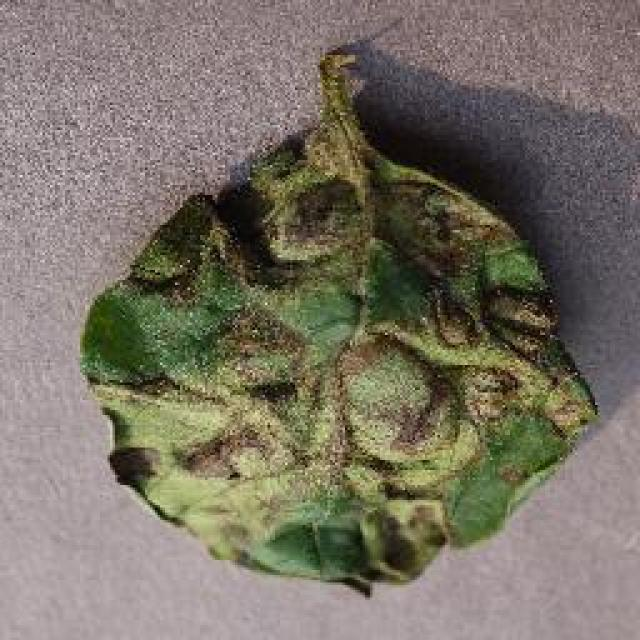Potato___Late_blight: (74, 45, 601, 607)
